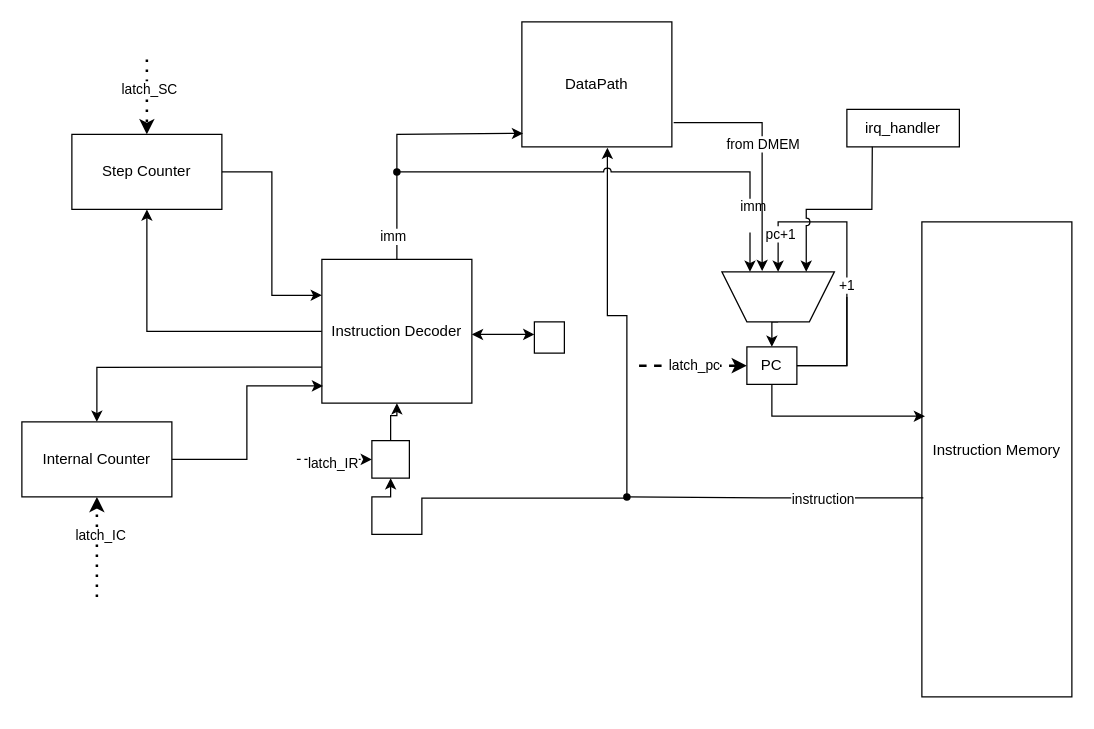
The diagram is 1094 pixels wide and 729 high, and some of its shapes have lost their labels. The shapes that lost their labels are listed below. From the top down, each one's box as (x1, y1, x2, y2) in pixels, then its label:
(721, 271, 834, 322): MUX
(533, 321, 564, 353): EI
(371, 439, 409, 478): IR
